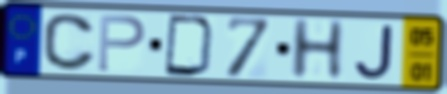7: (225, 15, 273, 80)
C: (41, 12, 98, 73)
D: (162, 12, 218, 79)
H: (288, 17, 348, 81)
J: (352, 22, 395, 82)
P: (95, 12, 148, 74)
